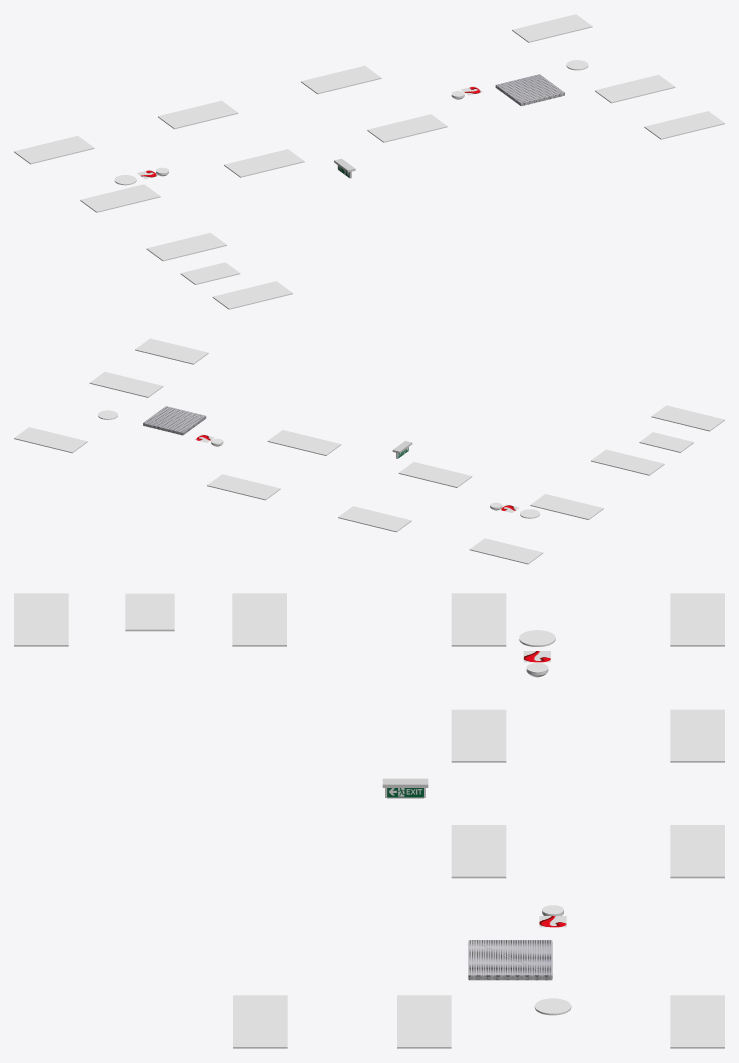
The model's file is Techo.fbx.
The picture shows the model from 3 angles, top to bottom: view 1: azimuth 30°, elevation 25°; view 2: azimuth 150°, elevation 25°; view 3: azimuth 270°, elevation 25°; orthographic projection. The views are drawn at different scales.
Visible parts, largest first — view 1: CUADRO TECHO, LAMP10, LAMP03, LAMP07, LAMP11, LAMP04, LAMP08, LAMP05, LAMP06, LAMP01, LAMP09, LAMP02 (+1 smaller); view 2: CUADRO TECHO, LAMP10, LAMP03, LAMP11, LAMP02, LAMP06, LAMP04, LAMP07, LAMP09, LAMP08, LAMP01, LAMP05 (+1 smaller); view 3: CUADRO TECHO, LAMP05, LAMP07, LAMP06, LAMP10, LAMP04, LAMP08, LAMP03, LAMP02, LAMP01, LAMP09, LAMP11 (+1 smaller).
Boxes of the visible parts, <box> form: CUADRO TECHO: <box>495,74,564,106</box>; LAMP10: <box>644,111,724,139</box>; LAMP03: <box>301,65,381,94</box>; LAMP07: <box>367,114,447,142</box>; LAMP11: <box>212,281,292,309</box>; LAMP04: <box>512,14,592,42</box>; LAMP08: <box>595,74,675,103</box>; LAMP05: <box>80,184,160,212</box>; LAMP06: <box>224,149,304,177</box>; LAMP01: <box>14,136,94,164</box>; LAMP09: <box>146,233,226,261</box>; LAMP02: <box>158,100,238,129</box>; CUADRO TECHO: <box>143,406,206,435</box>; LAMP10: <box>135,338,208,364</box>; LAMP03: <box>207,474,280,500</box>; LAMP11: <box>651,405,724,431</box>; LAMP02: <box>338,506,411,532</box>; LAMP06: <box>398,462,472,487</box>; LAMP04: <box>14,427,87,453</box>; LAMP07: <box>267,430,341,455</box>; LAMP09: <box>591,449,664,475</box>; LAMP08: <box>89,372,163,397</box>; LAMP01: <box>469,538,543,564</box>; LAMP05: <box>530,494,603,519</box>; CUADRO TECHO: <box>468,940,552,980</box>; LAMP05: <box>451,593,506,646</box>; LAMP07: <box>451,825,506,878</box>; LAMP06: <box>451,709,506,762</box>; LAMP10: <box>233,995,287,1048</box>; LAMP04: <box>670,995,724,1048</box>; LAMP08: <box>397,995,451,1048</box>; LAMP03: <box>670,825,724,878</box>; LAMP02: <box>670,709,724,762</box>; LAMP01: <box>670,593,724,646</box>; LAMP09: <box>232,593,286,646</box>; LAMP11: <box>14,593,68,646</box>.
Bounding box in the file's own units: 589 × 9.55 × 390.
Materials: 11 (8 with a texture image).
